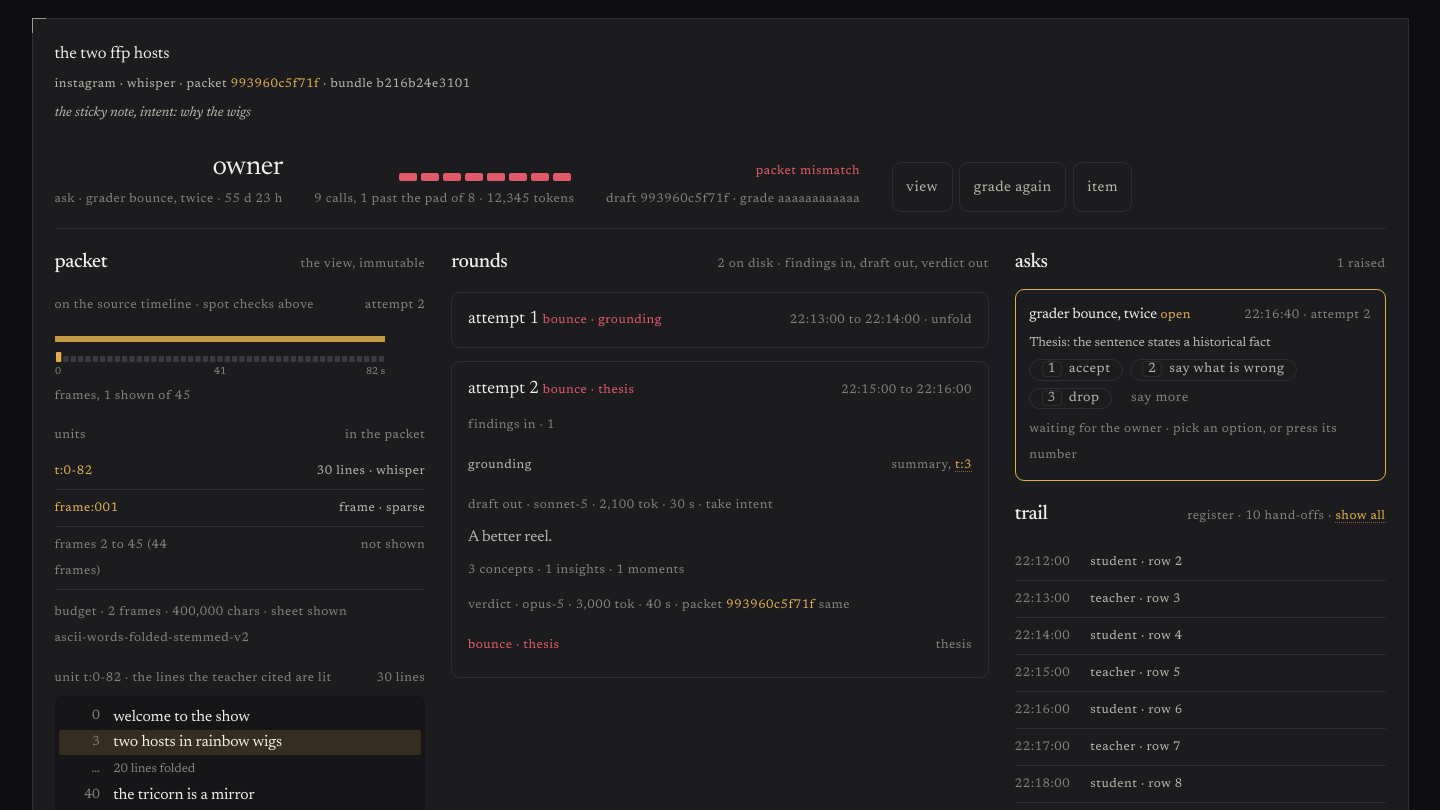
Test case: the trail shows the last eight until asked for all
This screenshot has width=1440, height=810.
Expected: the text "student · row 0" is not shown
Click the button "show all".
click(1360, 516)  # box [1335, 510, 1386, 523]
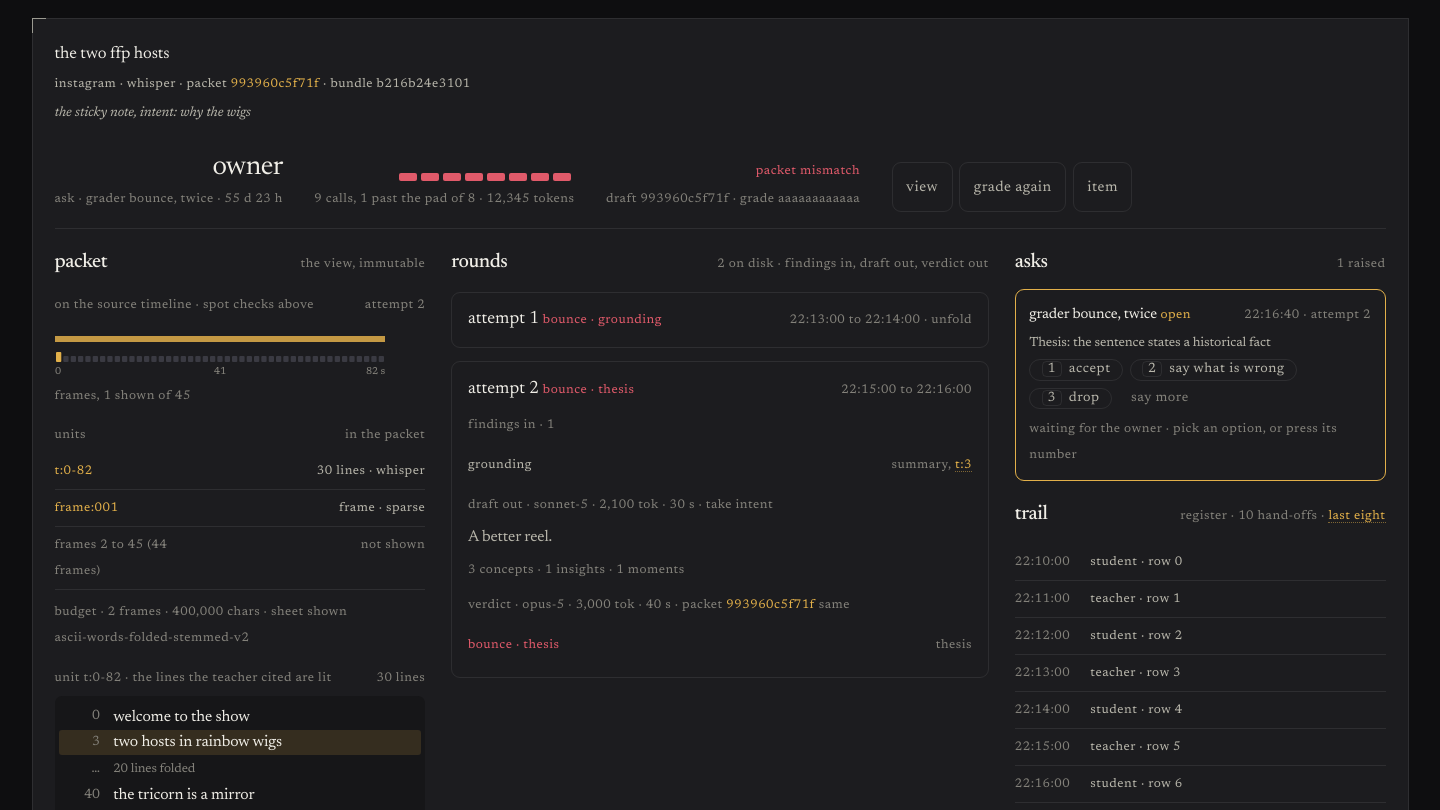
Now the text "student · row 0" is shown, box [1090, 556, 1183, 568]
